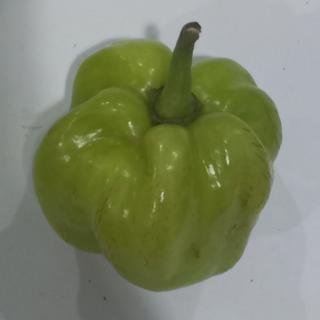Grade-B: (22, 30, 293, 294)
